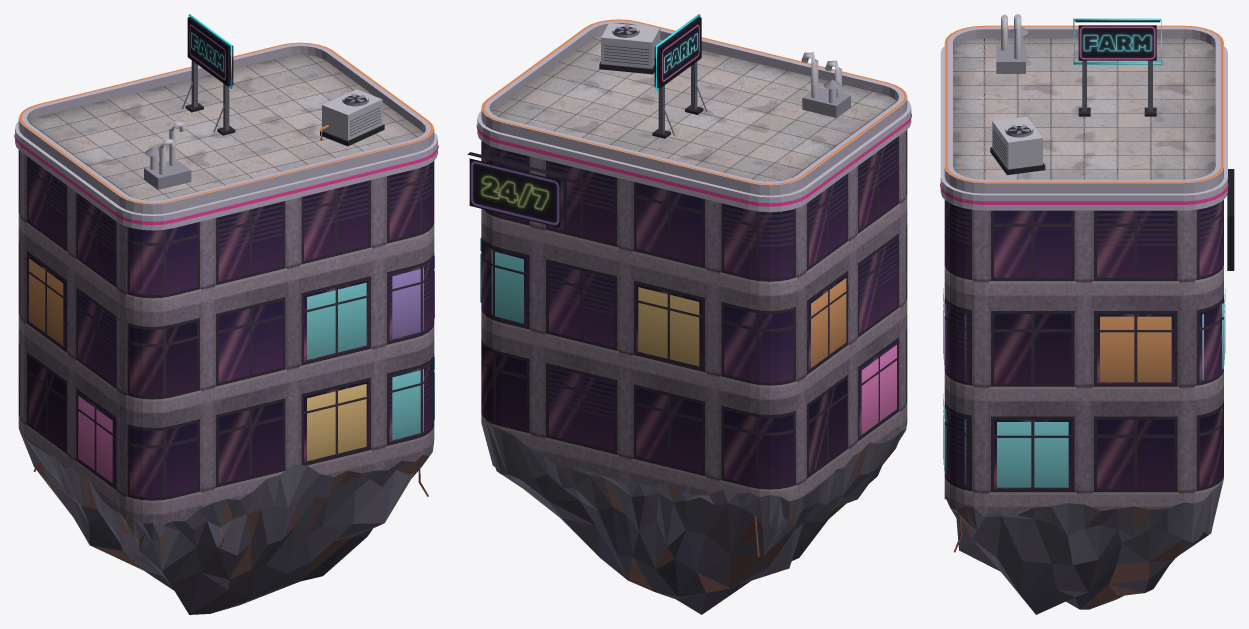
File: islet_3.glb
3 renders of one model, left to right at view 1: azimuth 30°, elevation 25°; view 2: azimuth 150°, elevation 25°; view 3: azimuth 270°, elevation 25°, orthographic. The views are drawn at different scales.
Visible parts, largest first — view 1: Island, Lit_Windows, Neon_ff3ea5, Frame, Neon_ff8a3d, Lit_Sign; view 2: Island, Lit_Windows, Lit_Signs, Neon_ff3ea5, Frame, Neon_ff8a3d, Lit_Sign; view 3: Island, Lit_Windows, Lit_Sign, Neon_ff8a3d, Neon_ff3ea5, Frame, Neon_2ef2ff.
Part boxes in pixels (bbox=[...]): Island: bbox=[15, 42, 437, 614]; Lit_Windows: bbox=[29, 255, 434, 483]; Neon_ff3ea5: bbox=[14, 134, 438, 225]; Frame: bbox=[182, 17, 235, 135]; Neon_ff8a3d: bbox=[19, 42, 433, 203]; Lit_Sign: bbox=[189, 22, 226, 82]; Island: bbox=[467, 19, 911, 614]; Lit_Windows: bbox=[480, 238, 896, 434]; Lit_Signs: bbox=[469, 158, 560, 227]; Neon_ff3ea5: bbox=[476, 113, 911, 206]; Frame: bbox=[652, 17, 707, 138]; Neon_ff8a3d: bbox=[482, 19, 906, 184]; Lit_Sign: bbox=[661, 22, 699, 84]; Island: bbox=[940, 14, 1234, 614]; Lit_Windows: bbox=[943, 288, 1225, 487]; Lit_Sign: bbox=[1078, 25, 1156, 60]; Neon_ff8a3d: bbox=[945, 25, 1223, 182]; Neon_ff3ea5: bbox=[940, 183, 1228, 204]; Frame: bbox=[1075, 20, 1159, 116]; Neon_2ef2ff: bbox=[1073, 18, 1161, 64].
Size of the model in its own units: 11.47 by 19.5 by 8.86.
Materials: 10 (4 with a texture image).
